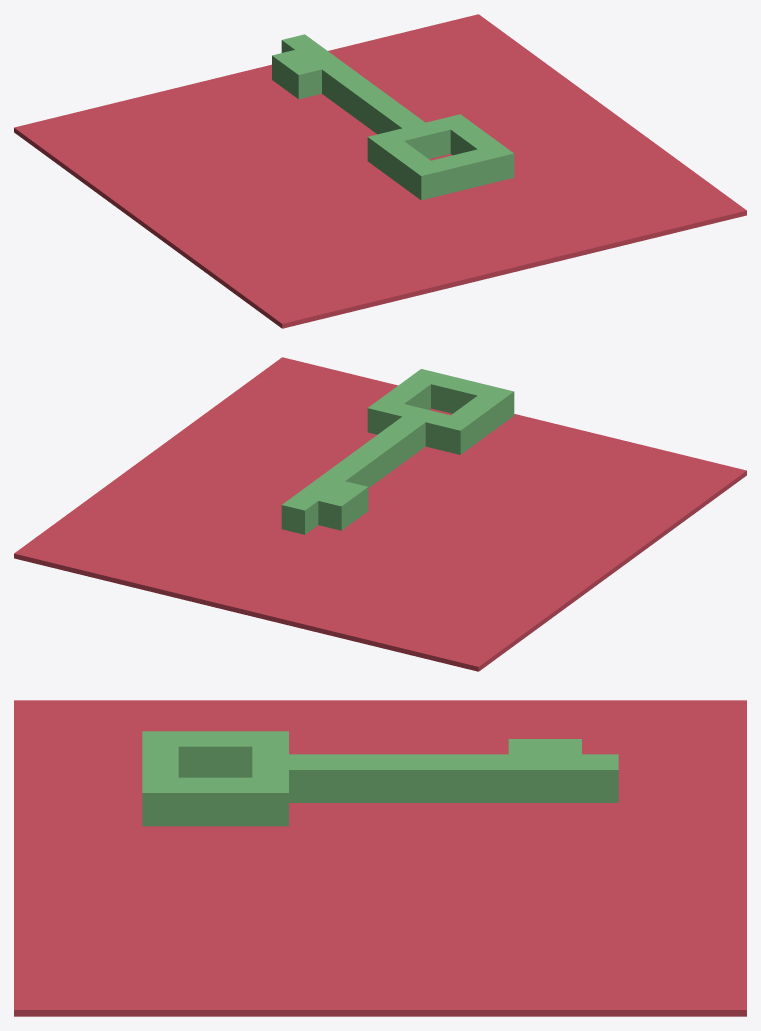
Rendered from Key_Green.glb.
3 views of the same model, one above another, from view 1: azimuth 30°, elevation 25°; view 2: azimuth 150°, elevation 25°; view 3: azimuth 270°, elevation 25° (orthographic). The views are drawn at different scales.
Visible parts, largest first — view 1: Mesh_Mesh_head_geo.001_lambert2SG.001; view 2: Mesh_Mesh_head_geo.001_lambert2SG.001; view 3: Mesh_Mesh_head_geo.001_lambert2SG.001.
Part boxes in pixels (left/top/right/bottom): Mesh_Mesh_head_geo.001_lambert2SG.001: left=14, top=14, right=746, bottom=328; Mesh_Mesh_head_geo.001_lambert2SG.001: left=14, top=357, right=746, bottom=671; Mesh_Mesh_head_geo.001_lambert2SG.001: left=14, top=700, right=746, bottom=1016.
Size of the model in its own units: 1 by 0.15 by 1.
